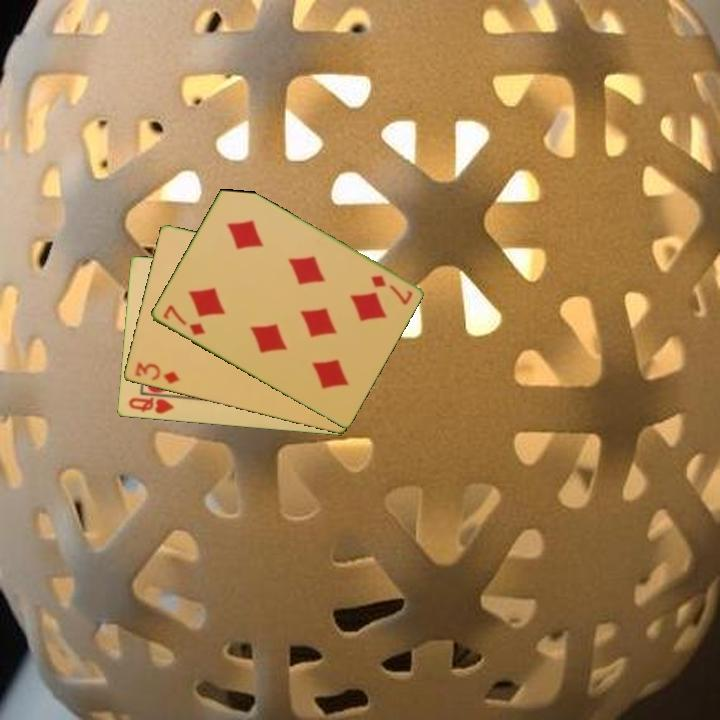3d: (131, 359, 182, 387)
7d: (159, 301, 208, 338), (367, 272, 415, 308)
Qh: (125, 394, 176, 417)
